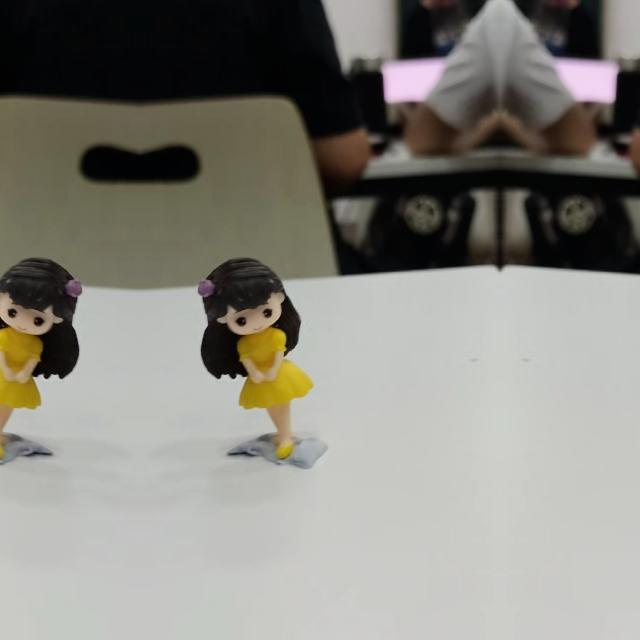woman head: (197, 255, 289, 333), (0, 255, 83, 333)
